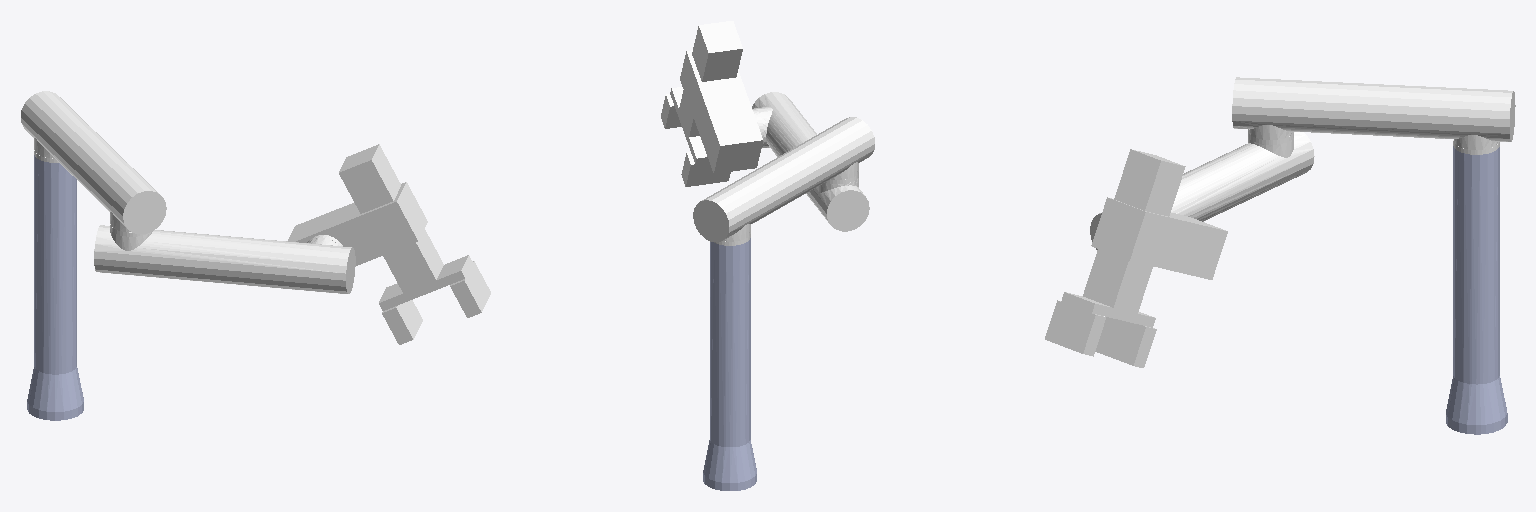
URDF robot description (robotic arm v2.SLDASM):
<?xml version="1.0" encoding="utf-8"?>
<!-- This URDF was automatically created by SolidWorks to URDF Exporter! Originally created by Stephen Brawner (brawner@gmail.com) 
     Commit Version: 1.6.0-4-g7f85cfe  Build Version: 1.6.7995.38578
     For more information, please see http://wiki.ros.org/sw_urdf_exporter -->
<robot
  name="robotic arm v2.SLDASM">
  <link
    name="base_link">
    <inertial>
      <origin
        xyz="0 2.22044604925031E-16 0.276405247813411"
        rpy="0 0 0" />
      <mass
        value="4.04087355067987" />
      <inertia
        ixx="0.129555582836237"
        ixy="3.41848380296047E-19"
        ixz="2.32629420467524E-18"
        iyy="0.129555582836237"
        iyz="-1.08090893842874E-17"
        izz="0.00455706274910499" />
    </inertial>
    <visual>
      <origin
        xyz="0 0 0"
        rpy="0 0 0" />
      <geometry>
        <mesh
          filename="package://robotic arm v2.SLDASM/meshes/base_link.STL" />
      </geometry>
      <material
        name="">
        <color
          rgba="0.792156862745098 0.819607843137255 0.933333333333333 1" />
      </material>
    </visual>
    <collision>
      <origin
        xyz="0 0 0"
        rpy="0 0 0" />
      <geometry>
        <mesh
          filename="package://robotic arm v2.SLDASM/meshes/base_link.STL" />
      </geometry>
    </collision>
  </link>
  <link
    name="link1">
    <inertial>
      <origin
        xyz="0.197135744030518 -1.59976559124808E-07 0.0526642978179172"
        rpy="0 0 0" />
      <mass
        value="4.44204931472102" />
      <inertia
        ixx="0.00575245836192667"
        ixy="-3.47944138137505E-08"
        ixz="4.17589026602352E-08"
        iyy="0.111599507271791"
        iyz="-3.98795123165379E-08"
        izz="0.111432657655181" />
    </inertial>
    <visual>
      <origin
        xyz="0 0 0"
        rpy="0 0 0" />
      <geometry>
        <mesh
          filename="package://robotic arm v2.SLDASM/meshes/link1.STL" />
      </geometry>
      <material
        name="">
        <color
          rgba="1 1 1 1" />
      </material>
    </visual>
    <collision>
      <origin
        xyz="0 0 0"
        rpy="0 0 0" />
      <geometry>
        <mesh
          filename="package://robotic arm v2.SLDASM/meshes/link1.STL" />
      </geometry>
    </collision>
  </link>
  <joint
    name="joint1"
    type="revolute">
    <origin
      xyz="0 0 0.6"
      rpy="0 0 -1.6847" />
    <parent
      link="base_link" />
    <child
      link="link1" />
    <axis
      xyz="0 0 -1" />
    <limit
      lower="-3.14"
      upper="3.14"
      effort="100"
      velocity="1" />
  </joint>
  <link
    name="link2">
    <inertial>
      <origin
        xyz="0.113236971682172 0.161370285493851 -0.063402582045269"
        rpy="0 0 0" />
      <mass
        value="4.44204816194256" />
      <inertia
        ixx="0.0768581026269021"
        ixy="-0.0496354757193787"
        ixz="0.000376827257461238"
        iyy="0.0404018794054323"
        iyz="0.0005369340826129"
        izz="0.111534403231751" />
    </inertial>
    <visual>
      <origin
        xyz="0 0 0"
        rpy="0 0 0" />
      <geometry>
        <mesh
          filename="package://robotic arm v2.SLDASM/meshes/link2.STL" />
      </geometry>
      <material
        name="">
        <color
          rgba="1 1 1 1" />
      </material>
    </visual>
    <collision>
      <origin
        xyz="0 0 0"
        rpy="0 0 0" />
      <geometry>
        <mesh
          filename="package://robotic arm v2.SLDASM/meshes/link2.STL" />
      </geometry>
    </collision>
  </link>
  <joint
    name="joint2"
    type="revolute">
    <origin
      xyz="0.4 0 0"
      rpy="0 0 0" />
    <parent
      link="link1" />
    <child
      link="link2" />
    <axis
      xyz="0 0 -1" />
    <limit
      lower="-3.14"
      upper="3.14"
      effort="100"
      velocity="1" />
  </joint>
  <link
    name="link3">
    <inertial>
      <origin
        xyz="0.0326951065646961 0.0170714541293917 -0.0624543369929833"
        rpy="0 0 0" />
      <mass
        value="2.15542587685279" />
      <inertia
        ixx="0.00554520668126041"
        ixy="-0.00341790511017989"
        ixz="5.62597901840828E-05"
        iyy="0.0103065218068104"
        iyz="2.93755405126077E-05"
        izz="0.0118605236282954" />
    </inertial>
    <visual>
      <origin
        xyz="0 0 0"
        rpy="0 0 0" />
      <geometry>
        <mesh
          filename="package://robotic arm v2.SLDASM/meshes/link3.STL" />
      </geometry>
      <material
        name="">
        <color
          rgba="1 1 1 1" />
      </material>
    </visual>
    <collision>
      <origin
        xyz="0 0 0"
        rpy="0 0 0" />
      <geometry>
        <mesh
          filename="package://robotic arm v2.SLDASM/meshes/link3.STL" />
      </geometry>
    </collision>
  </link>
  <joint
    name="joint3"
    type="revolute">
    <origin
      xyz="0.18609 0.35833 -0.065"
      rpy="1.5708 0 0.95517" />
    <parent
      link="link2" />
    <child
      link="link3" />
    <axis
      xyz="0 0 -1" />
    <limit
      lower="-3.14"
      upper="3.14"
      effort="100"
      velocity="1" />
  </joint>
  <link
    name="link4">
    <inertial>
      <origin
        xyz="-2.22044604925031E-15 3.04201108747293E-14 0.164811320754711"
        rpy="0 0 0" />
      <mass
        value="2.12" />
      <inertia
        ixx="0.0200282578616352"
        ixy="0"
        ixz="-1.89735380184963E-18"
        iyy="0.0205602578616352"
        iyz="-3.90312782094782E-18"
        izz="0.00284933333333333" />
    </inertial>
    <visual>
      <origin
        xyz="0 0 0"
        rpy="0 0 0" />
      <geometry>
        <mesh
          filename="package://robotic arm v2.SLDASM/meshes/link4.STL" />
      </geometry>
      <material
        name="">
        <color
          rgba="1 1 1 1" />
      </material>
    </visual>
    <collision>
      <origin
        xyz="0 0 0"
        rpy="0 0 0" />
      <geometry>
        <mesh
          filename="package://robotic arm v2.SLDASM/meshes/link4.STL" />
      </geometry>
    </collision>
  </link>
  <joint
    name="joint4"
    type="prismatic">
    <origin
      xyz="0.062321 0.20472 -0.065"
      rpy="-1.5708 0 -2.6604" />
    <parent
      link="link3" />
    <child
      link="link4" />
    <axis
      xyz="0 0 1" />
    <limit
      lower="-200"
      upper="200"
      effort="100"
      velocity="1" />
  </joint>
  <link
    name="fin1">
    <inertial>
      <origin
        xyz="0.0399999999999999 -0.0368604651162789 0.0175000000000003"
        rpy="0 0 0" />
      <mass
        value="0.301" />
      <inertia
        ixx="0.00021979355620155"
        ixy="-1.55854062294791E-19"
        ixz="-1.42301535138722E-19"
        iyy="0.000270360416666666"
        iyz="1.9312351197398E-19"
        izz="0.00042869980620155" />
    </inertial>
    <visual>
      <origin
        xyz="0 0 0"
        rpy="0 0 0" />
      <geometry>
        <mesh
          filename="package://robotic arm v2.SLDASM/meshes/fin1.STL" />
      </geometry>
      <material
        name="">
        <color
          rgba="1 1 1 1" />
      </material>
    </visual>
    <collision>
      <origin
        xyz="0 0 0"
        rpy="0 0 0" />
      <geometry>
        <mesh
          filename="package://robotic arm v2.SLDASM/meshes/fin1.STL" />
      </geometry>
    </collision>
  </link>
  <joint
    name="joint5"
    type="prismatic">
    <origin
      xyz="-0.1 0.04 0.32"
      rpy="-1.5708 0 -1.5708" />
    <parent
      link="link4" />
    <child
      link="fin1" />
    <axis
      xyz="0 0 1" />
    <limit
      lower="-200"
      upper="200"
      effort="100"
      velocity="1" />
  </joint>
  <link
    name="fin2">
    <inertial>
      <origin
        xyz="0.0400000000000001 -0.0368604651162791 0.1825"
        rpy="0 0 0" />
      <mass
        value="0.301" />
      <inertia
        ixx="0.00021979355620155"
        ixy="-1.21972744404619E-19"
        ixz="-2.37169225231204E-19"
        iyy="0.000270360416666667"
        iyz="3.96411419315013E-19"
        izz="0.00042869980620155" />
    </inertial>
    <visual>
      <origin
        xyz="0 0 0"
        rpy="0 0 0" />
      <geometry>
        <mesh
          filename="package://robotic arm v2.SLDASM/meshes/fin2.STL" />
      </geometry>
      <material
        name="">
        <color
          rgba="1 1 1 1" />
      </material>
    </visual>
    <collision>
      <origin
        xyz="0 0 0"
        rpy="0 0 0" />
      <geometry>
        <mesh
          filename="package://robotic arm v2.SLDASM/meshes/fin2.STL" />
      </geometry>
    </collision>
  </link>
  <joint
    name="joint6"
    type="prismatic">
    <origin
      xyz="0 0 0"
      rpy="0 0 0" />
    <parent
      link="fin1" />
    <child
      link="fin2" />
    <axis
      xyz="0 0 1" />
    <limit
      lower="-200"
      upper="200"
      effort="100"
      velocity="1" />
    <mimic
      joint="joint5"
      multiplier="-1"
      offset="0" />
  </joint>
</robot>

--- Render facts (derived) ---
The picture shows the robot from 3 angles, left to right: view 1: azimuth 30°, elevation 25°; view 2: azimuth 150°, elevation 25°; view 3: azimuth 270°, elevation 25°; orthographic projection.
Robot: robotic arm v2.SLDASM — 7 links, 6 joints (3 revolute, 3 prismatic); root link base_link; default pose: all joints at 0.
Links seen in each view (by area): view 1: link2, base_link, link1, link4, link3, fin1, fin2; view 2: base_link, link1, link3, link2, link4, fin2; view 3: link1, base_link, link2, link4, link3, fin1, fin2.
Link boxes in pixels (left/top/right/bottom): link2: left=94, top=224, right=355, bottom=293; base_link: left=27, top=155, right=83, bottom=420; link1: left=21, top=91, right=166, bottom=233; link4: left=339, top=144, right=472, bottom=310; link3: left=288, top=182, right=427, bottom=265; fin1: left=450, top=261, right=490, bottom=317; fin2: left=382, top=300, right=422, bottom=344; base_link: left=703, top=238, right=756, bottom=490; link1: left=693, top=117, right=874, bottom=245; link3: left=680, top=50, right=763, bottom=173; link2: left=752, top=92, right=869, bottom=231; link4: left=670, top=21, right=742, bottom=163; fin2: left=681, top=152, right=730, bottom=186; link1: left=1232, top=77, right=1515, bottom=154; base_link: left=1446, top=146, right=1507, bottom=434; link2: left=1090, top=132, right=1314, bottom=249; link4: left=1061, top=149, right=1185, bottom=327; link3: left=1091, top=197, right=1227, bottom=279; fin1: left=1045, top=298, right=1105, bottom=356; fin2: left=1095, top=317, right=1156, bottom=367.
Bounding box of the posed robot: 0.7476 × 0.9111 × 0.7582 m (x, y, z).
Meshes: 7 distinct files referenced, 7 mesh visuals loaded (7 binary STL).
